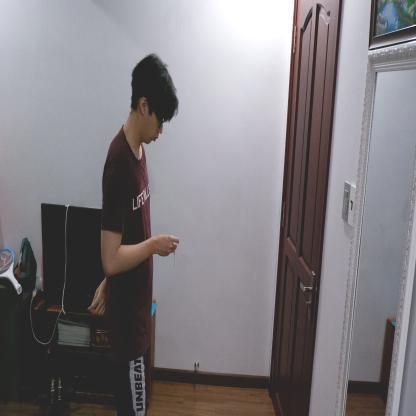cigarette: (172, 249, 176, 269)
person: (95, 47, 181, 415)
